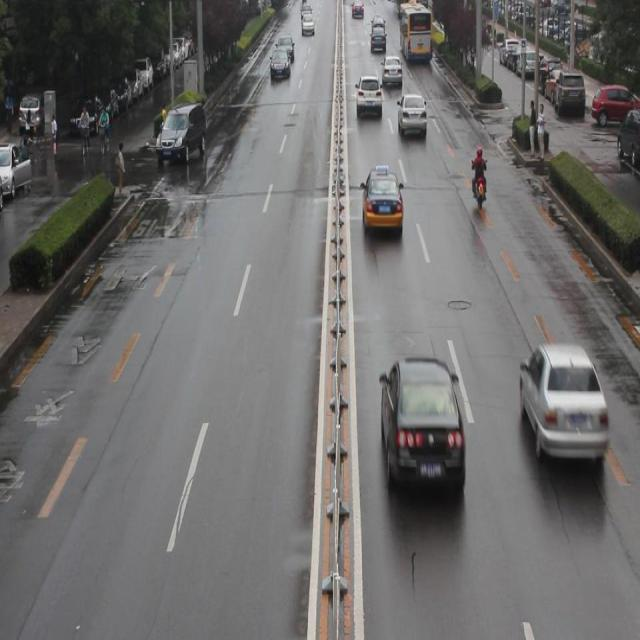car: (378, 358, 464, 500), (518, 344, 608, 473), (358, 166, 403, 236), (396, 94, 428, 138)
truck: (157, 107, 207, 162)
